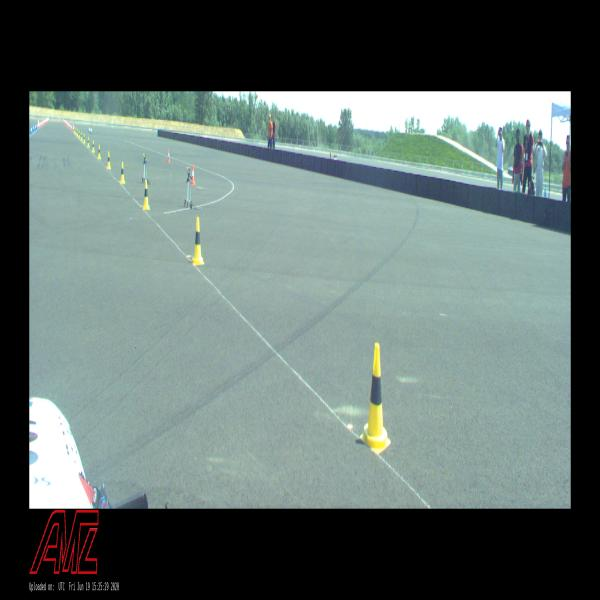blue_cone: (36, 123, 38, 129), (31, 126, 32, 133), (33, 125, 34, 132), (35, 124, 36, 130)
large_orange_cone: (73, 122, 74, 132), (38, 118, 39, 128)
orange_cone: (190, 164, 195, 184), (167, 149, 170, 162)
yellow_cone: (360, 344, 391, 455), (192, 217, 204, 264), (142, 180, 150, 209), (120, 162, 125, 183), (106, 152, 111, 169), (97, 145, 101, 158), (92, 140, 95, 152), (87, 137, 90, 147), (80, 132, 83, 140), (78, 130, 81, 138), (83, 134, 85, 143), (76, 128, 78, 136), (75, 127, 76, 134), (74, 126, 75, 132)
